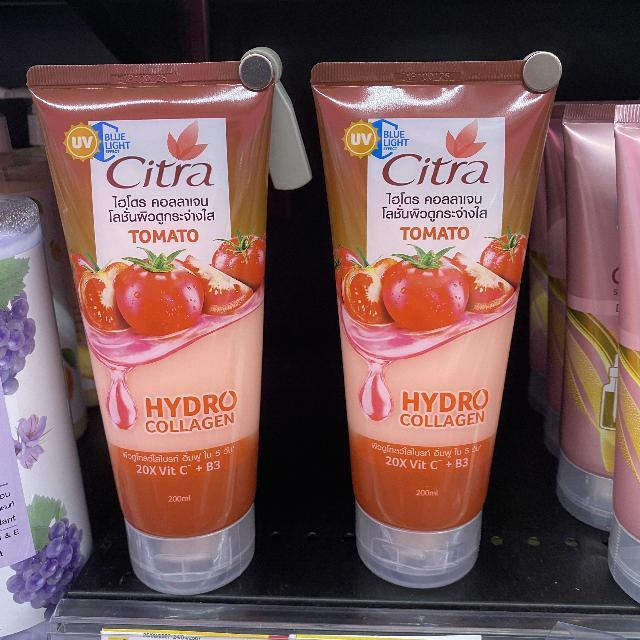Squeeze Tube: (15, 41, 557, 640)
